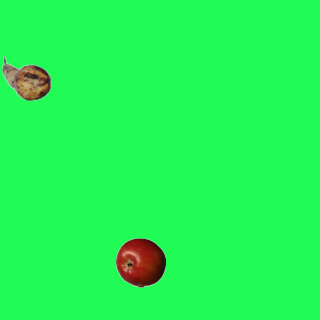Apple Braeburn: (115, 237, 165, 287)
Pear Abate: (1, 53, 51, 103)
